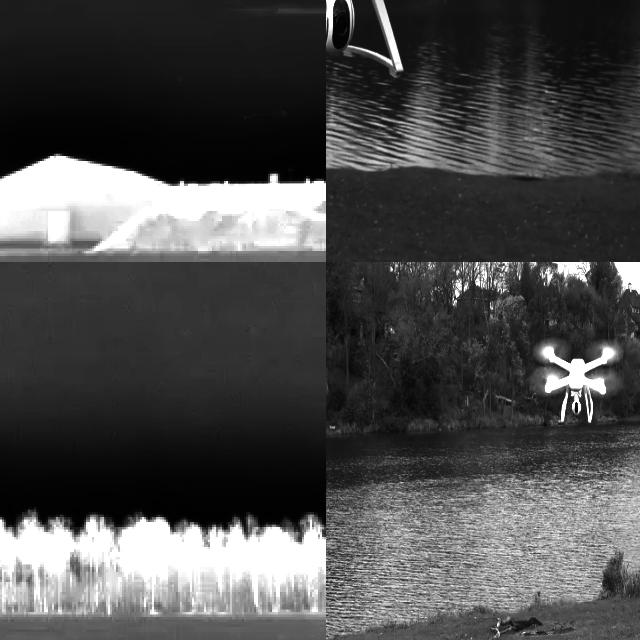drone: (537, 338, 611, 428)
